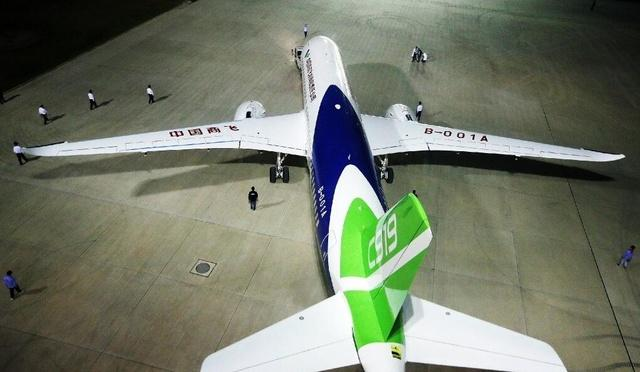airplane: (12, 35, 626, 372)
